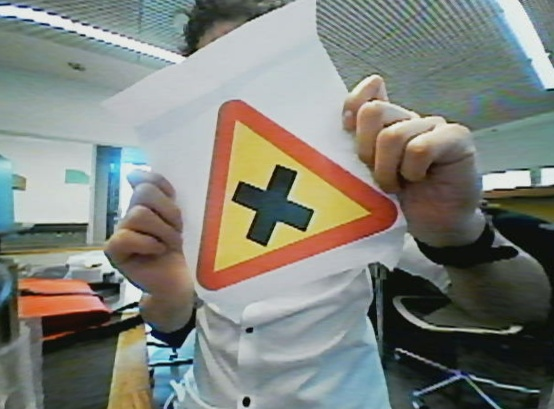junction: (177, 92, 404, 304)
